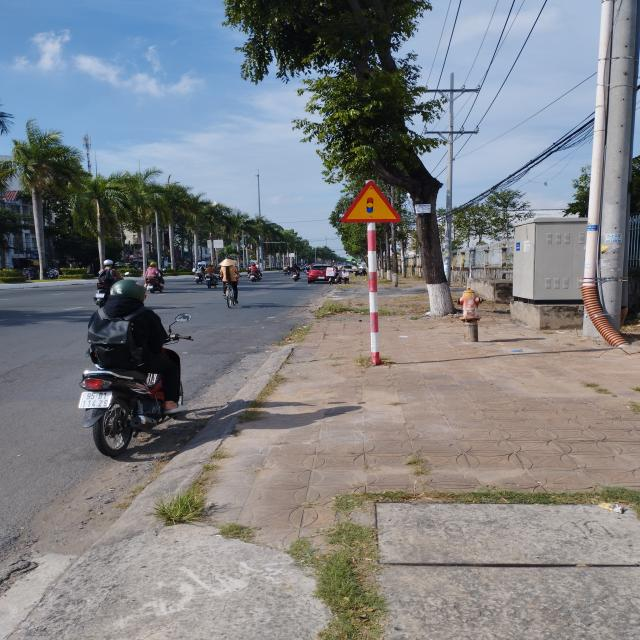Duong_Co_Go_Giam_Toc: (340, 181, 401, 223)
